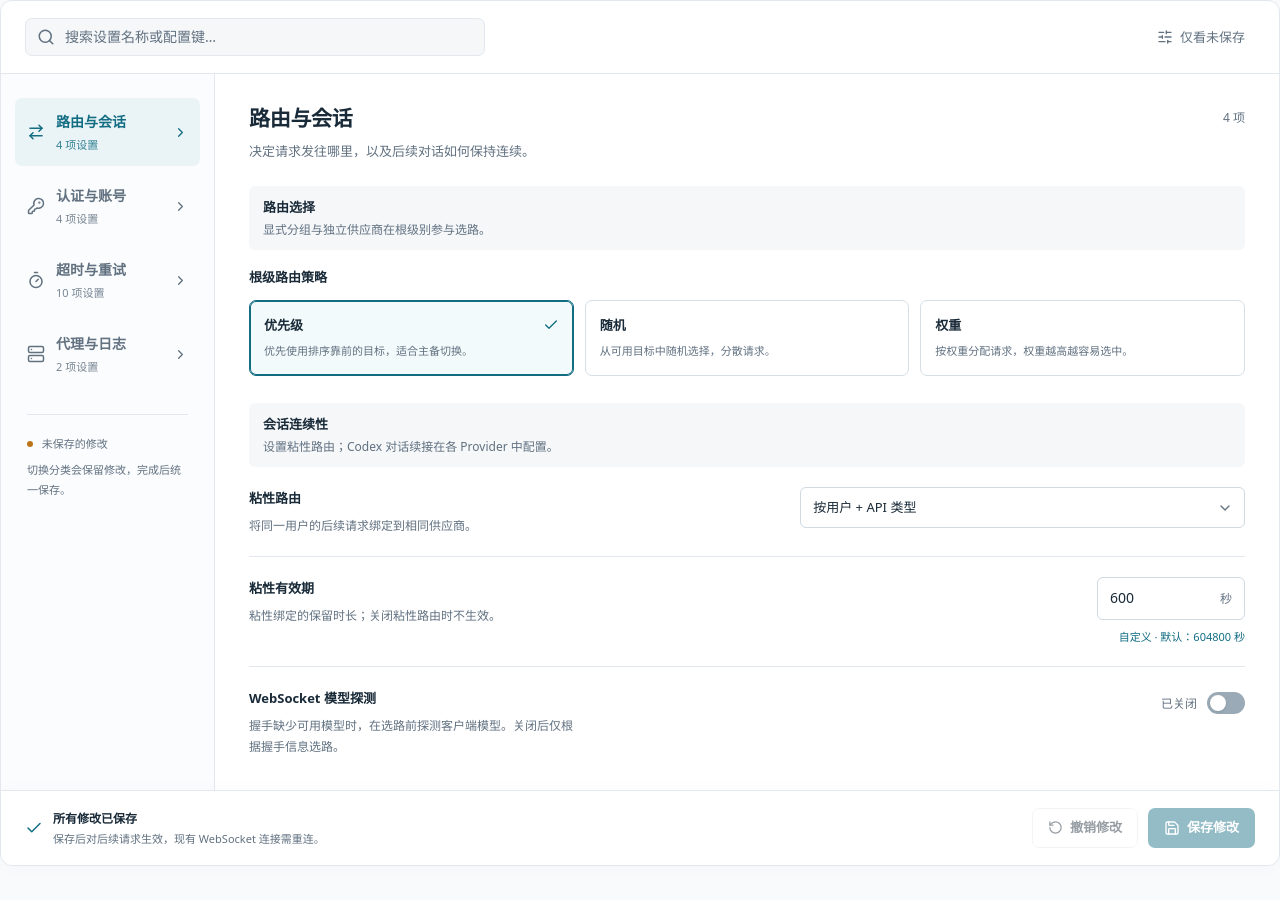
Test case: configuration editing › distinguishes custom saved values from unsaved edits and detects reverting a value
Check: the text "自定义 · 默认：604800 秒" is shown, box [1119, 628, 1245, 644]
Check: the button "保存修改" is disabled, box [1148, 808, 1255, 848]
Replace the text in the number field labelled "粘性有效期" with "900". click: x=1159, y=598
box: [1098, 578, 1220, 618]
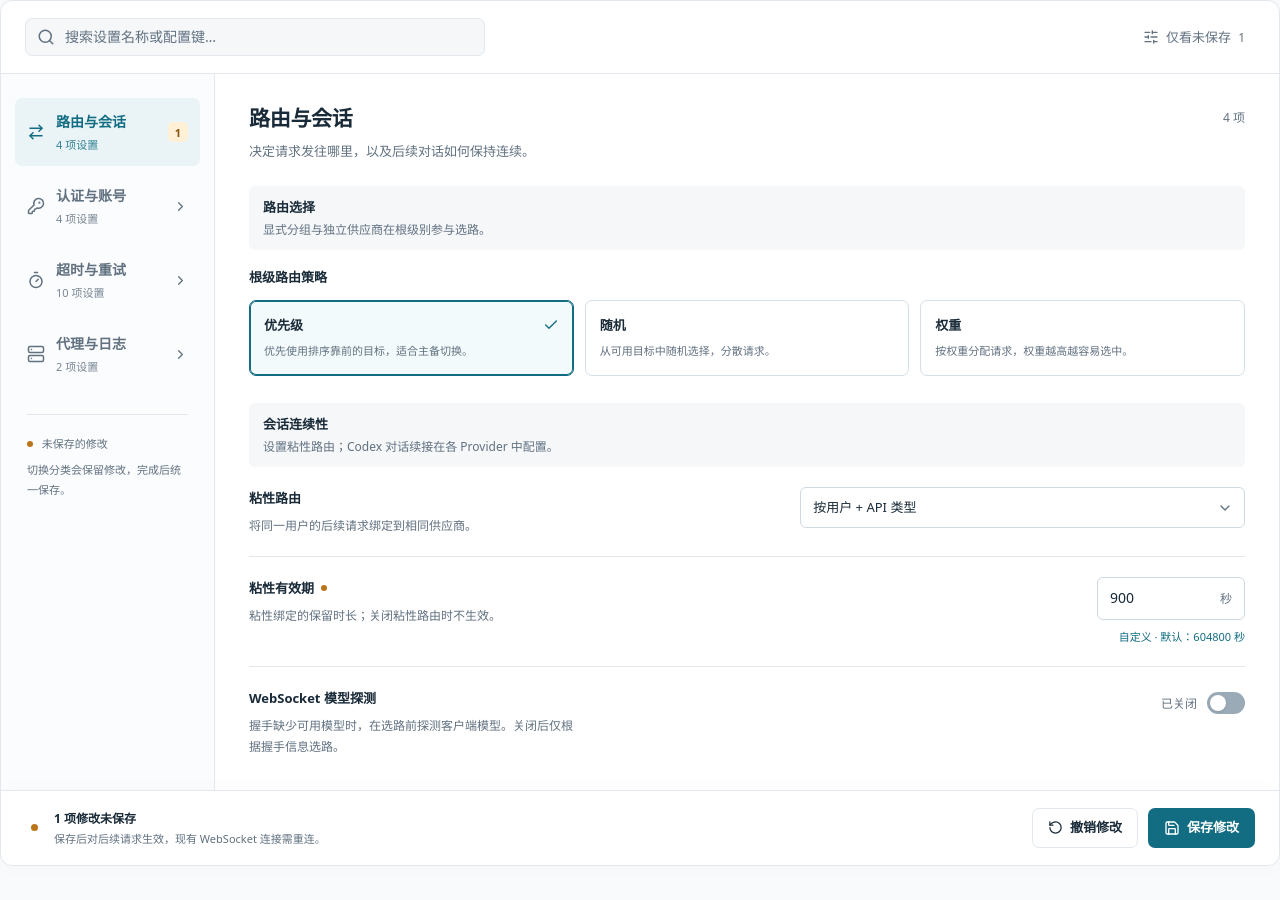
Check: the text "1 项修改未保存" is shown, box [54, 810, 136, 826]
Replace the text in the number field labelled "粘性有效期" with "600". click: x=1159, y=598
box: [1098, 578, 1220, 618]
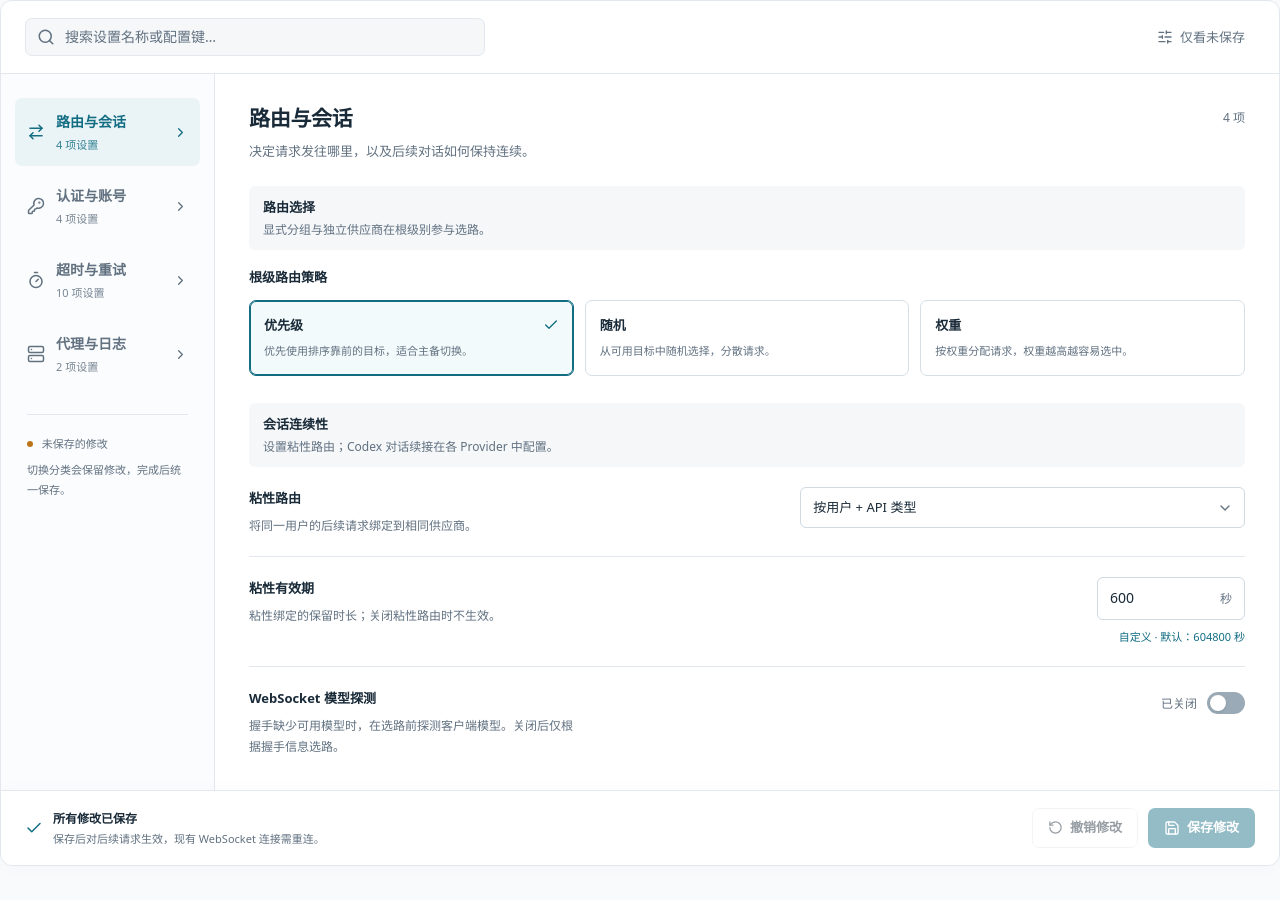
Check: the button "保存修改" is disabled, box [1148, 808, 1255, 848]
